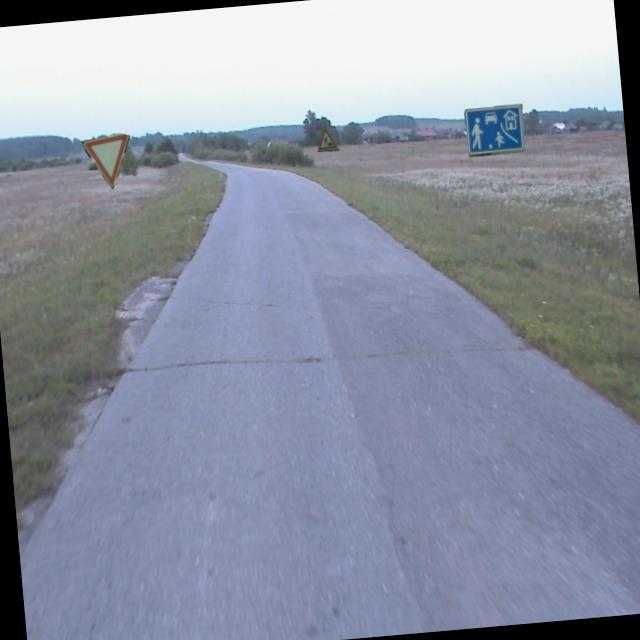road: (20, 167, 640, 640)
